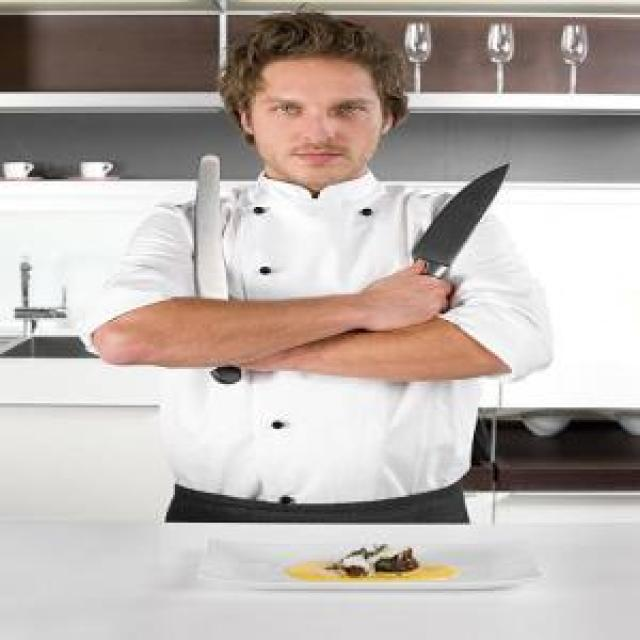knife: (354, 158, 520, 327)
